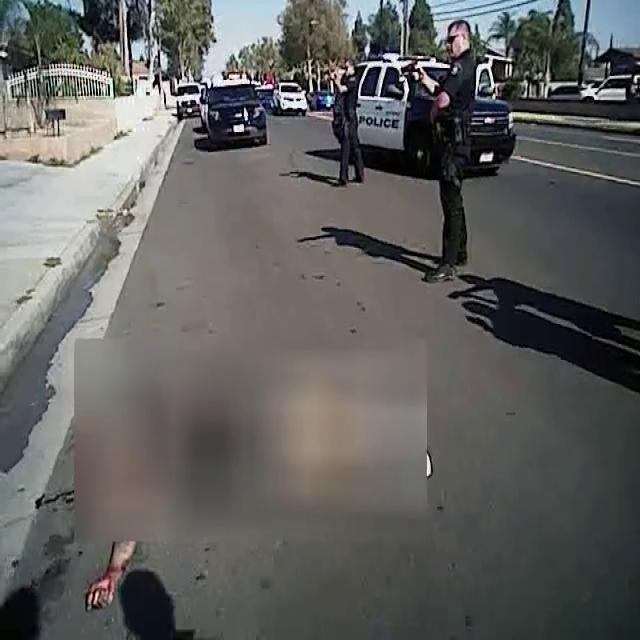gun: (399, 55, 422, 85), (321, 61, 337, 83)
